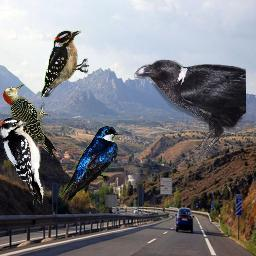Crow: (134, 59, 246, 169)
Swallow: (60, 126, 119, 202)
Woodpecker: (1, 84, 57, 157), (0, 117, 45, 205), (41, 30, 89, 97)
